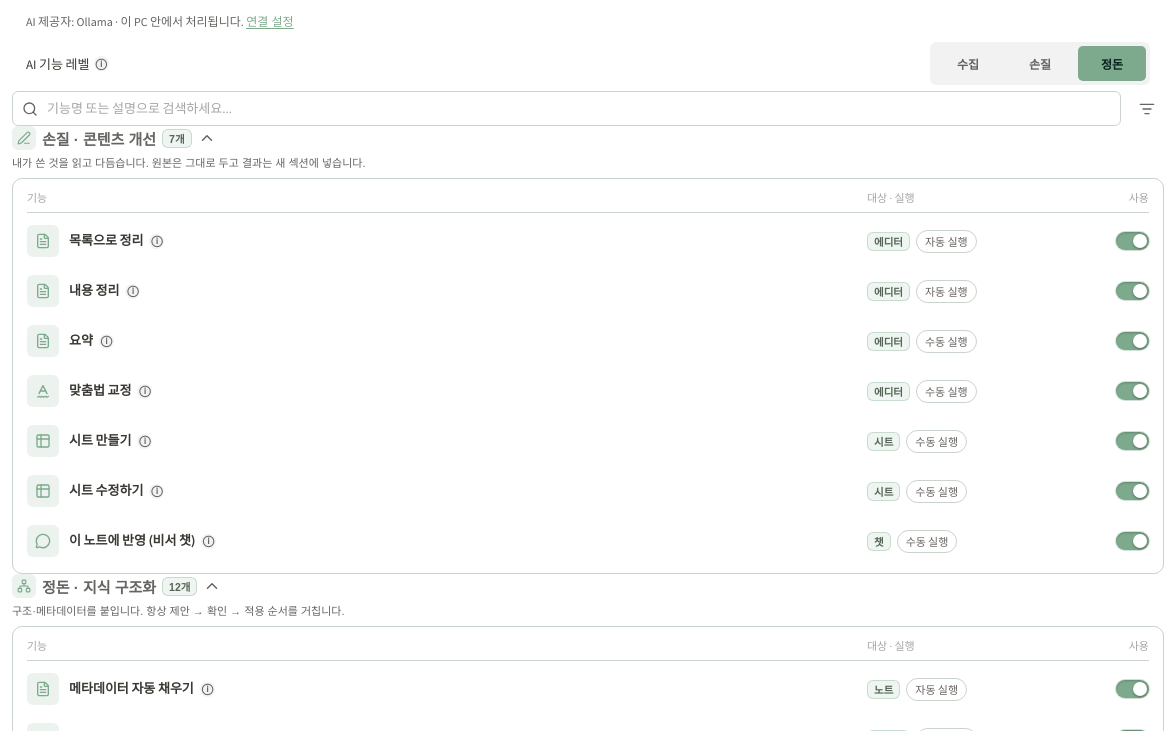
Test: AiCapabilityCatalog — 현대적 AI 관리 센터 UI & 상호작용 › 필터 버튼을 클릭하면 타깃 필터 칩들이 노출되고 특정 타깃으로 필터링할 수 있다
This screenshot has width=1176, height=731.
필터 버튼 클릭하여 칩 표시
Click the button with test id "ai-capability-filter-button" at (1146, 108), box [1129, 91, 1164, 126]
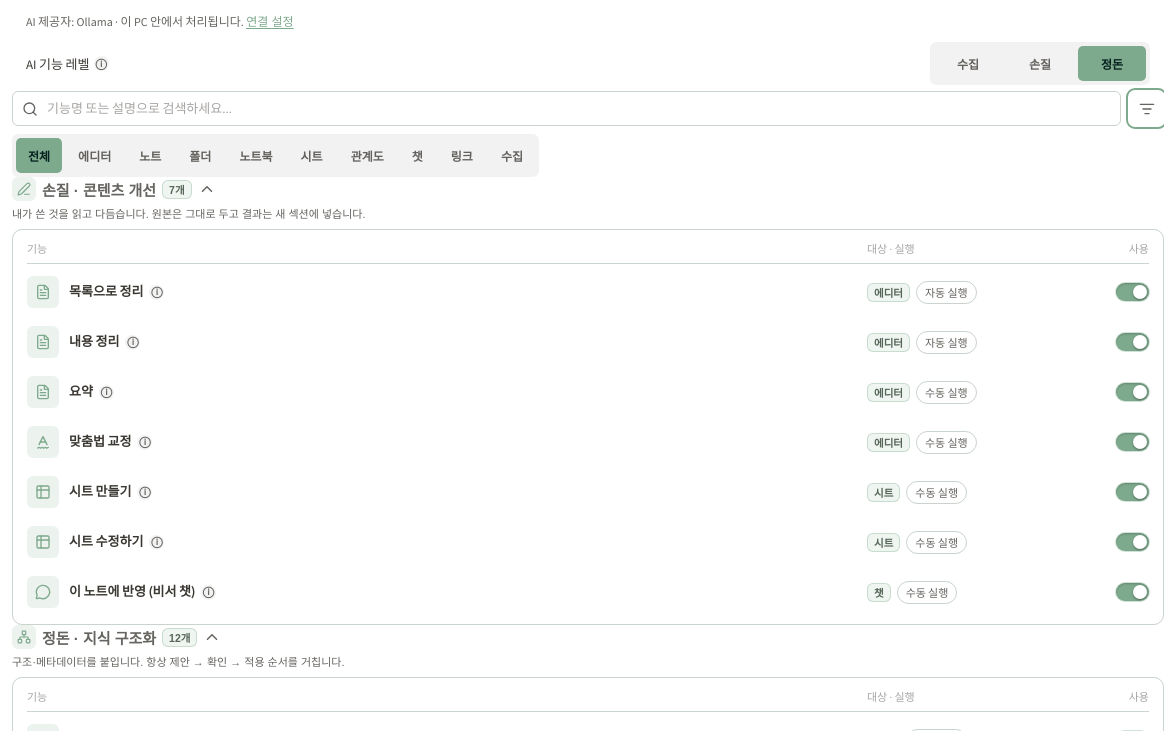
Expected: the radio button labelled "에디터" is shown, [66, 138, 123, 173]
Expected: the radio button labelled "폴더" is shown
"폴더" 칩 클릭
Click the radio button labelled "폴더" at (200, 156), box [177, 138, 223, 173]
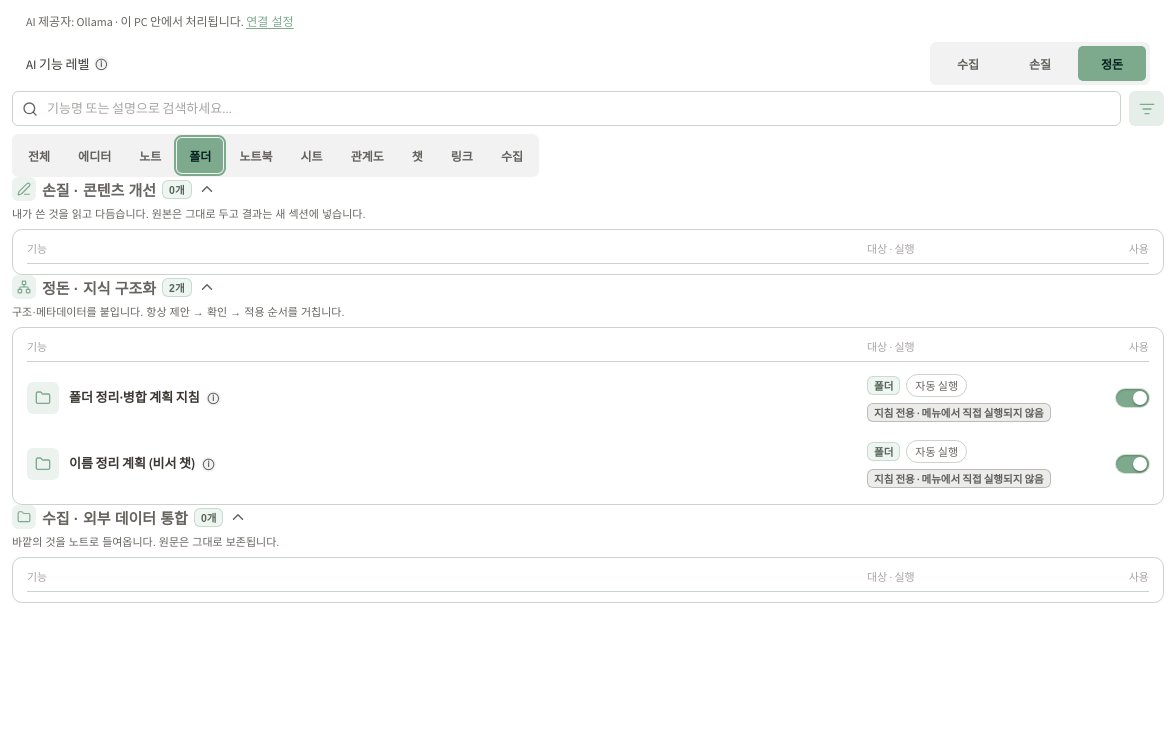
Expected: the element with test id "ai-capability-row-agent_folder" is shown, [27, 368, 1149, 428]
Expected: the element with test id "ai-capability-row-list" is gone
"전체" 클릭으로 복원
Click the radio button labelled "전체" at (39, 156), box [16, 138, 62, 173]
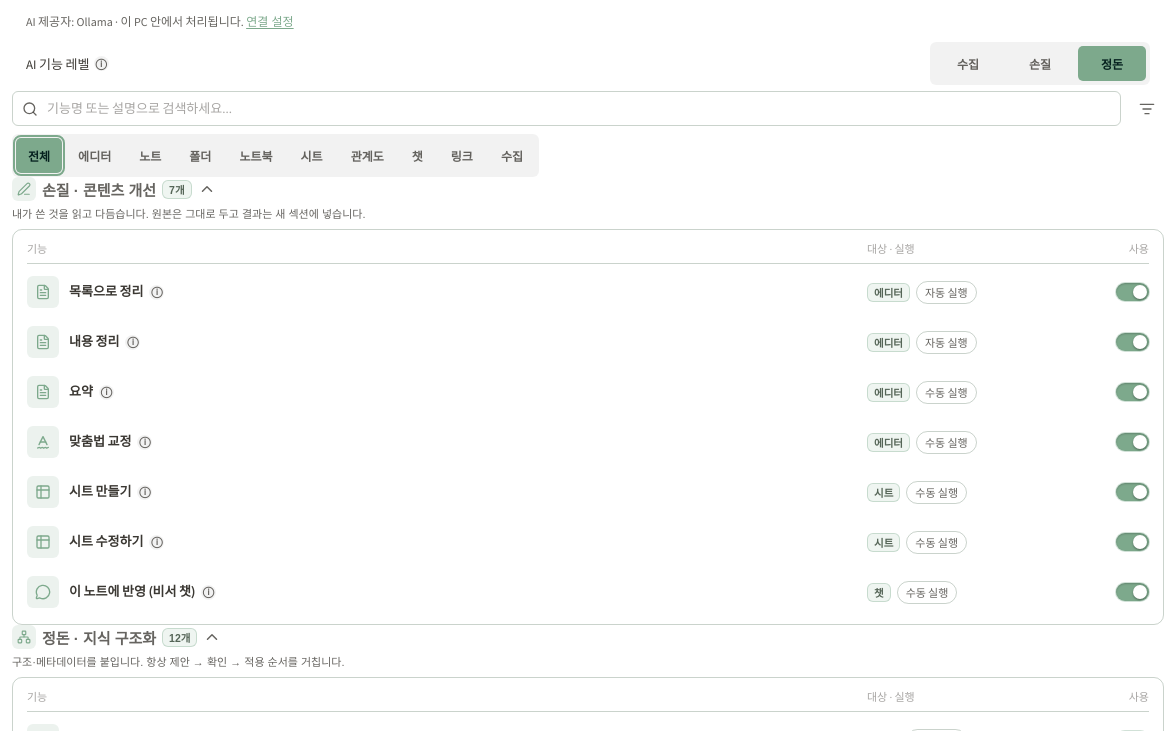
Expected: the element with test id "ai-capability-row-list" is shown, [27, 270, 1149, 314]
